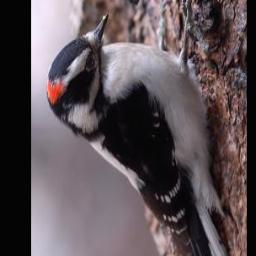Woodpecker: (42, 7, 235, 256)
